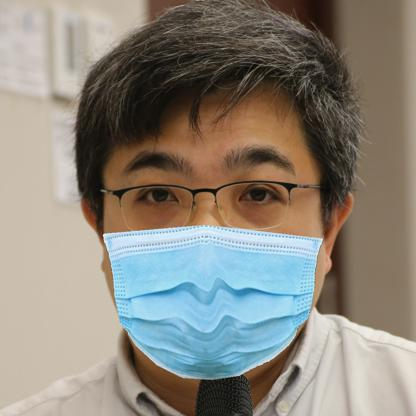mask: (96, 226, 327, 382)
